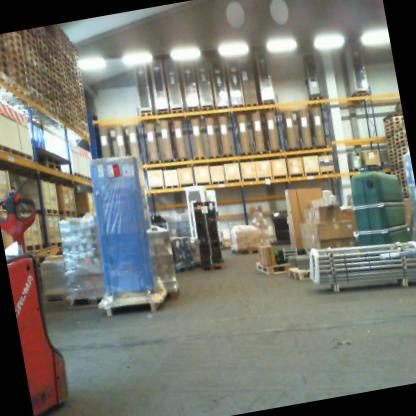pallet: (66, 290, 107, 313), (18, 202, 59, 222), (255, 255, 291, 277), (39, 287, 70, 308), (4, 35, 24, 61), (287, 263, 312, 283), (3, 31, 23, 54), (159, 283, 181, 302), (11, 78, 30, 100), (7, 52, 26, 74), (8, 59, 27, 80), (6, 45, 25, 66), (10, 73, 29, 93), (25, 65, 42, 87), (39, 160, 62, 176), (19, 29, 37, 49), (26, 72, 43, 93), (21, 34, 38, 55), (38, 155, 61, 170), (9, 66, 27, 85), (23, 54, 41, 73), (24, 60, 41, 80), (22, 41, 39, 61), (199, 261, 225, 274), (56, 204, 77, 220), (23, 48, 40, 67), (0, 63, 12, 89), (27, 79, 43, 98), (173, 261, 196, 274), (235, 246, 259, 258), (28, 91, 44, 109), (35, 35, 48, 56), (28, 85, 43, 103), (42, 239, 64, 251), (24, 242, 44, 255), (0, 39, 9, 66), (42, 95, 56, 112), (38, 60, 51, 78), (37, 54, 50, 72), (383, 114, 404, 125), (0, 56, 10, 79), (40, 78, 53, 95), (40, 72, 53, 89), (34, 31, 47, 48), (40, 84, 54, 99), (383, 119, 404, 129), (42, 89, 55, 105), (39, 67, 52, 83), (33, 26, 46, 42), (37, 44, 49, 61), (48, 58, 60, 75), (47, 52, 59, 69), (353, 88, 371, 99), (0, 49, 9, 71), (43, 101, 56, 116), (37, 50, 49, 66), (49, 64, 61, 80), (47, 48, 59, 64), (46, 43, 58, 58), (51, 75, 62, 91), (50, 69, 61, 85), (0, 34, 7, 57), (309, 92, 325, 102), (283, 144, 299, 154), (164, 181, 180, 191), (348, 163, 365, 172), (261, 98, 276, 108), (314, 142, 329, 152), (192, 153, 207, 163), (54, 97, 64, 112), (52, 81, 62, 96), (65, 58, 75, 73), (214, 102, 230, 111), (267, 146, 283, 155), (319, 167, 335, 176), (201, 103, 215, 113), (239, 149, 253, 159), (56, 109, 66, 123), (53, 92, 63, 106), (52, 87, 62, 101), (66, 68, 76, 82), (64, 54, 74, 68), (393, 132, 407, 142), (155, 108, 170, 117), (169, 107, 184, 116), (146, 157, 161, 166), (59, 65, 68, 80), (58, 59, 67, 74), (57, 54, 66, 69), (57, 49, 66, 64), (66, 62, 75, 77), (207, 152, 220, 162), (64, 112, 74, 125), (63, 106, 73, 119), (61, 96, 71, 109), (60, 86, 70, 99), (185, 106, 201, 114), (219, 152, 235, 160), (301, 143, 315, 152), (161, 156, 175, 165), (61, 80, 70, 94), (68, 78, 77, 92), (67, 73, 76, 87), (395, 145, 409, 154), (394, 137, 408, 146), (138, 110, 153, 118), (244, 100, 259, 108), (174, 155, 189, 163), (61, 91, 71, 103), (55, 104, 64, 117), (63, 101, 72, 114), (70, 98, 79, 111), (68, 84, 77, 97), (60, 76, 69, 89), (395, 141, 408, 150), (393, 128, 406, 137), (392, 125, 405, 134), (396, 149, 409, 158), (231, 102, 245, 110), (254, 148, 268, 156), (73, 117, 82, 129), (72, 109, 81, 121), (71, 104, 80, 116), (69, 93, 78, 105), (69, 89, 78, 101), (77, 96, 86, 108), (60, 71, 68, 84), (76, 82, 84, 95), (75, 77, 83, 90), (75, 73, 83, 86), (79, 110, 88, 121), (76, 92, 85, 103), (80, 114, 88, 126), (74, 69, 82, 81), (73, 64, 81, 76), (384, 124, 396, 132), (72, 114, 81, 124), (384, 127, 394, 136), (81, 123, 89, 134), (79, 105, 87, 116), (78, 101, 86, 112), (76, 87, 84, 98), (80, 119, 88, 129), (390, 165, 399, 173), (386, 139, 395, 147), (386, 136, 395, 144), (385, 132, 394, 140), (387, 150, 397, 157), (386, 147, 396, 154), (386, 143, 396, 150), (389, 158, 398, 165), (390, 161, 398, 168), (390, 169, 399, 175), (388, 154, 397, 160)
pallet_truck: (0, 183, 75, 416)
